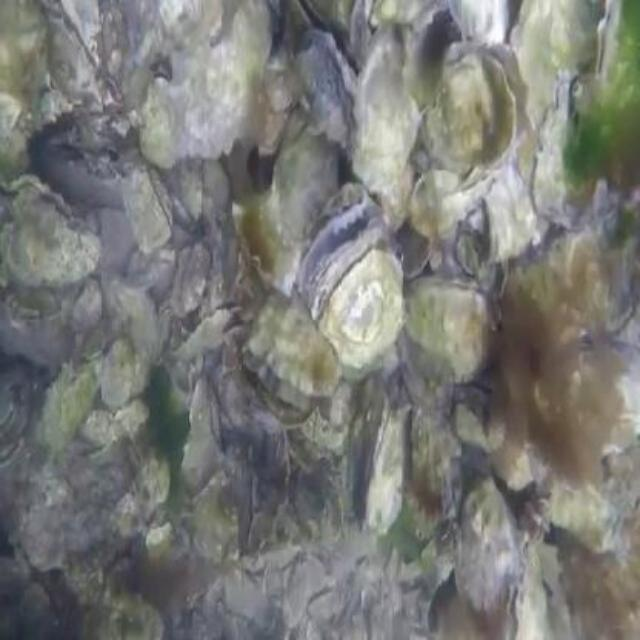Oyster-Closed: (143, 0, 271, 163), (539, 340, 640, 454), (354, 35, 421, 181), (532, 80, 595, 227), (406, 276, 489, 378), (457, 474, 519, 609), (0, 0, 45, 181), (275, 114, 340, 237), (231, 189, 300, 286), (409, 406, 460, 528), (486, 167, 545, 270), (370, 395, 412, 538), (42, 362, 104, 447), (400, 326, 454, 415), (504, 532, 547, 640), (115, 459, 170, 540), (124, 164, 170, 246), (282, 554, 327, 624), (448, 0, 511, 45), (102, 334, 133, 401), (596, 0, 622, 78), (0, 404, 28, 468), (183, 242, 209, 309), (72, 282, 101, 336), (174, 243, 193, 316), (378, 550, 399, 612), (81, 327, 107, 367), (147, 526, 174, 563), (0, 373, 15, 434)
Oyster-Open: (299, 194, 408, 368), (425, 39, 532, 176), (241, 284, 341, 416), (4, 176, 99, 282), (287, 0, 359, 75), (45, 4, 94, 103)
